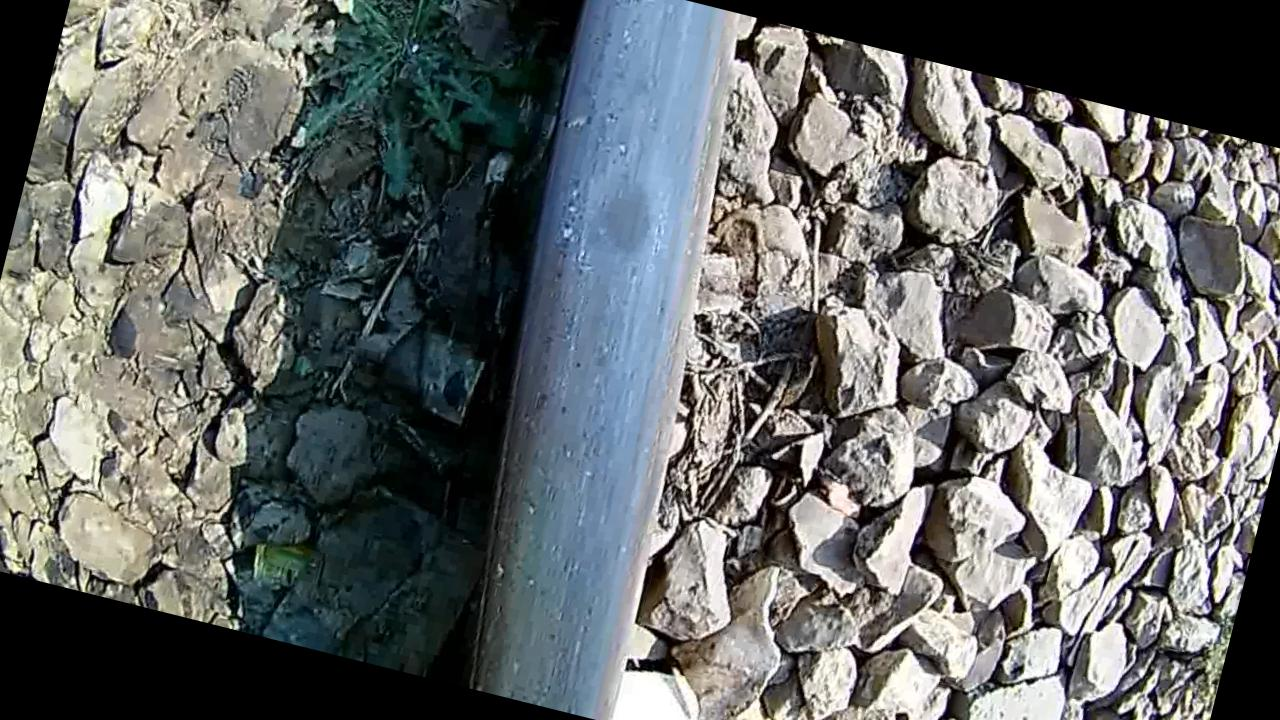bolt_missing: (500, 94, 730, 341)
